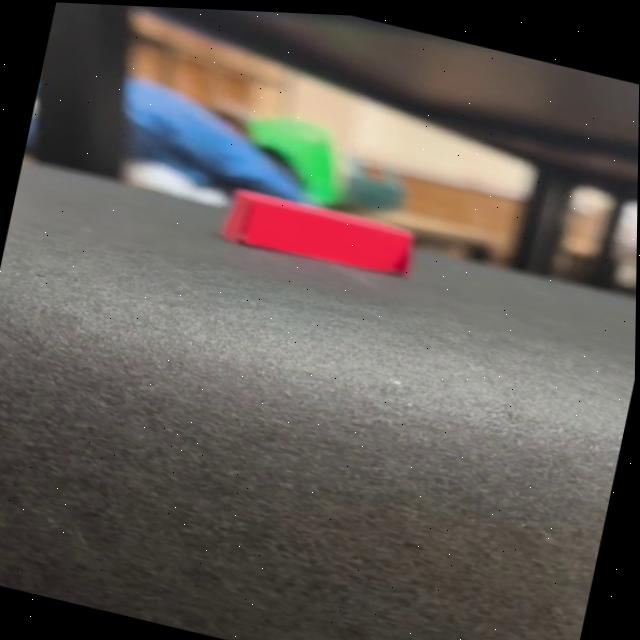red block: (217, 182, 418, 285)
